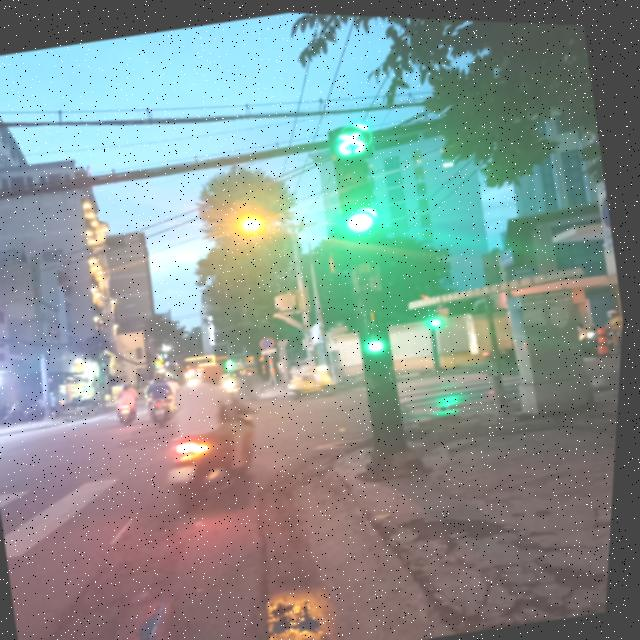Green: (327, 152, 394, 242), (355, 300, 402, 369)
